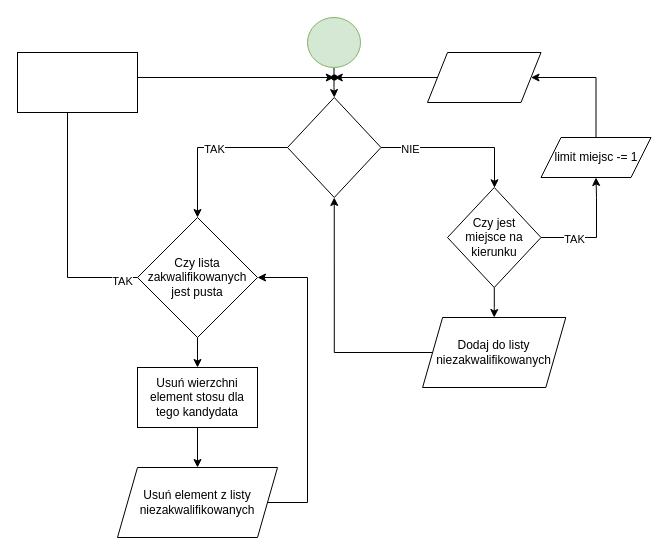
Image size: 669x555. Some labels were removed from this diagram. The shapes that lost their labels are listed below. From the top down, each one's box as (x1, y1, x2, y2) in pixels, then its label:
(16, 52, 138, 112): Ustaw limity miejsc zgodnie z limitami odgórnymi
(426, 52, 541, 102): Usuń element z listy
(286, 96, 381, 198): Czy lista jest pusta
